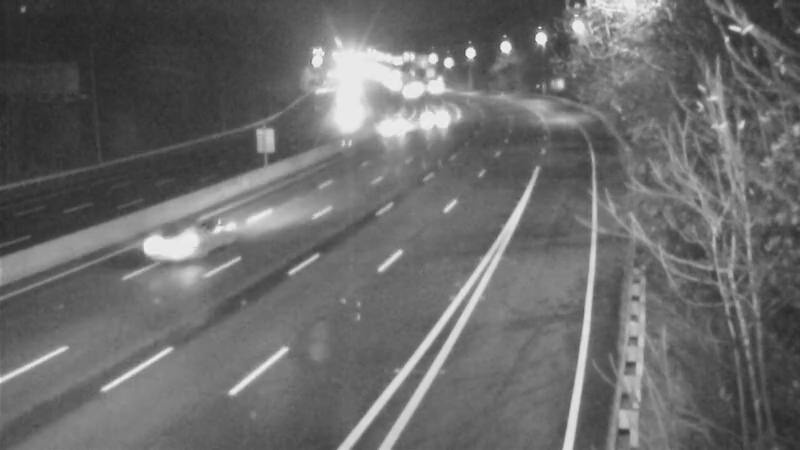vehicle: (140, 196, 220, 276), (409, 63, 459, 113), (384, 67, 434, 117), (413, 91, 463, 141), (366, 106, 416, 156), (319, 77, 369, 127)
